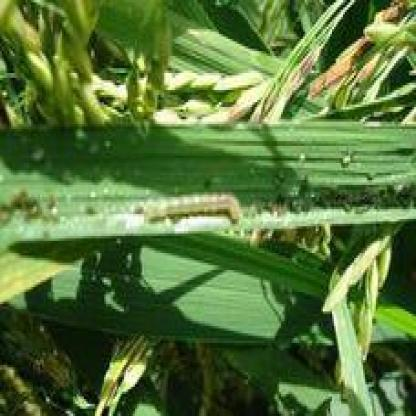leaf-folder: (140, 169, 254, 254)
